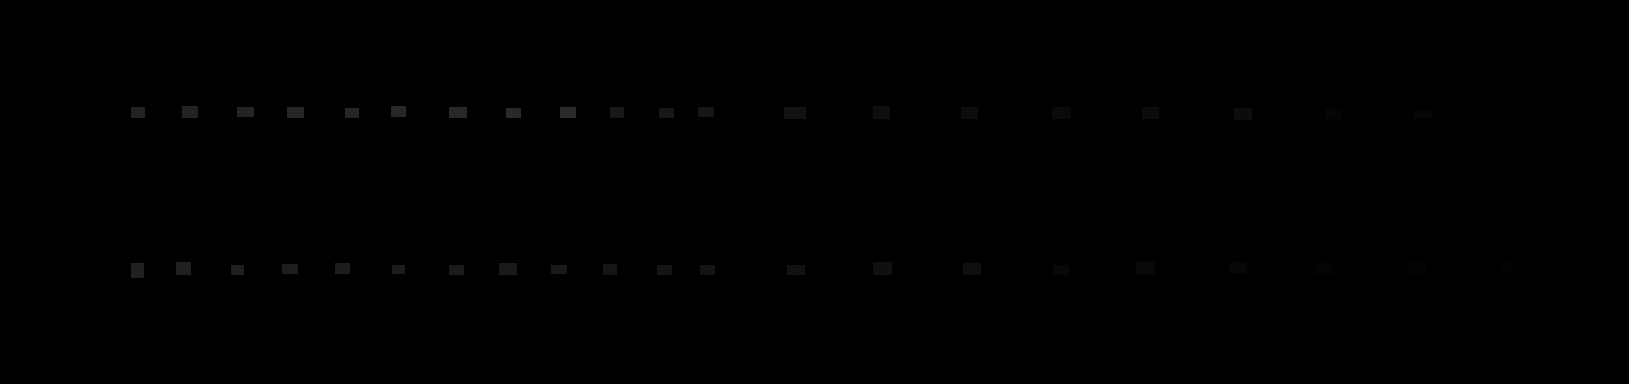light: (784, 107, 806, 119), (873, 262, 892, 275), (1136, 262, 1155, 274), (1409, 260, 1426, 274), (1315, 262, 1333, 275), (873, 106, 890, 119), (1052, 107, 1071, 119), (499, 263, 517, 275), (1501, 260, 1518, 274), (1142, 107, 1159, 119), (1234, 108, 1252, 120), (963, 263, 981, 275), (449, 107, 468, 118), (176, 262, 191, 275), (131, 263, 144, 278), (961, 107, 978, 119), (182, 106, 198, 118), (287, 107, 304, 118), (1230, 262, 1247, 273), (1325, 109, 1342, 119), (787, 265, 805, 275), (335, 263, 350, 274), (391, 106, 406, 117), (560, 107, 576, 118), (1413, 110, 1432, 119), (1502, 110, 1519, 120), (282, 264, 298, 274), (237, 107, 253, 117), (603, 264, 617, 275), (610, 107, 624, 118), (131, 107, 145, 118), (1053, 265, 1069, 275), (657, 265, 672, 275), (698, 107, 714, 117), (659, 108, 674, 118), (449, 265, 464, 275), (551, 265, 567, 274), (700, 265, 715, 275), (345, 108, 359, 118), (506, 108, 520, 118), (231, 265, 244, 275), (392, 265, 405, 274)
